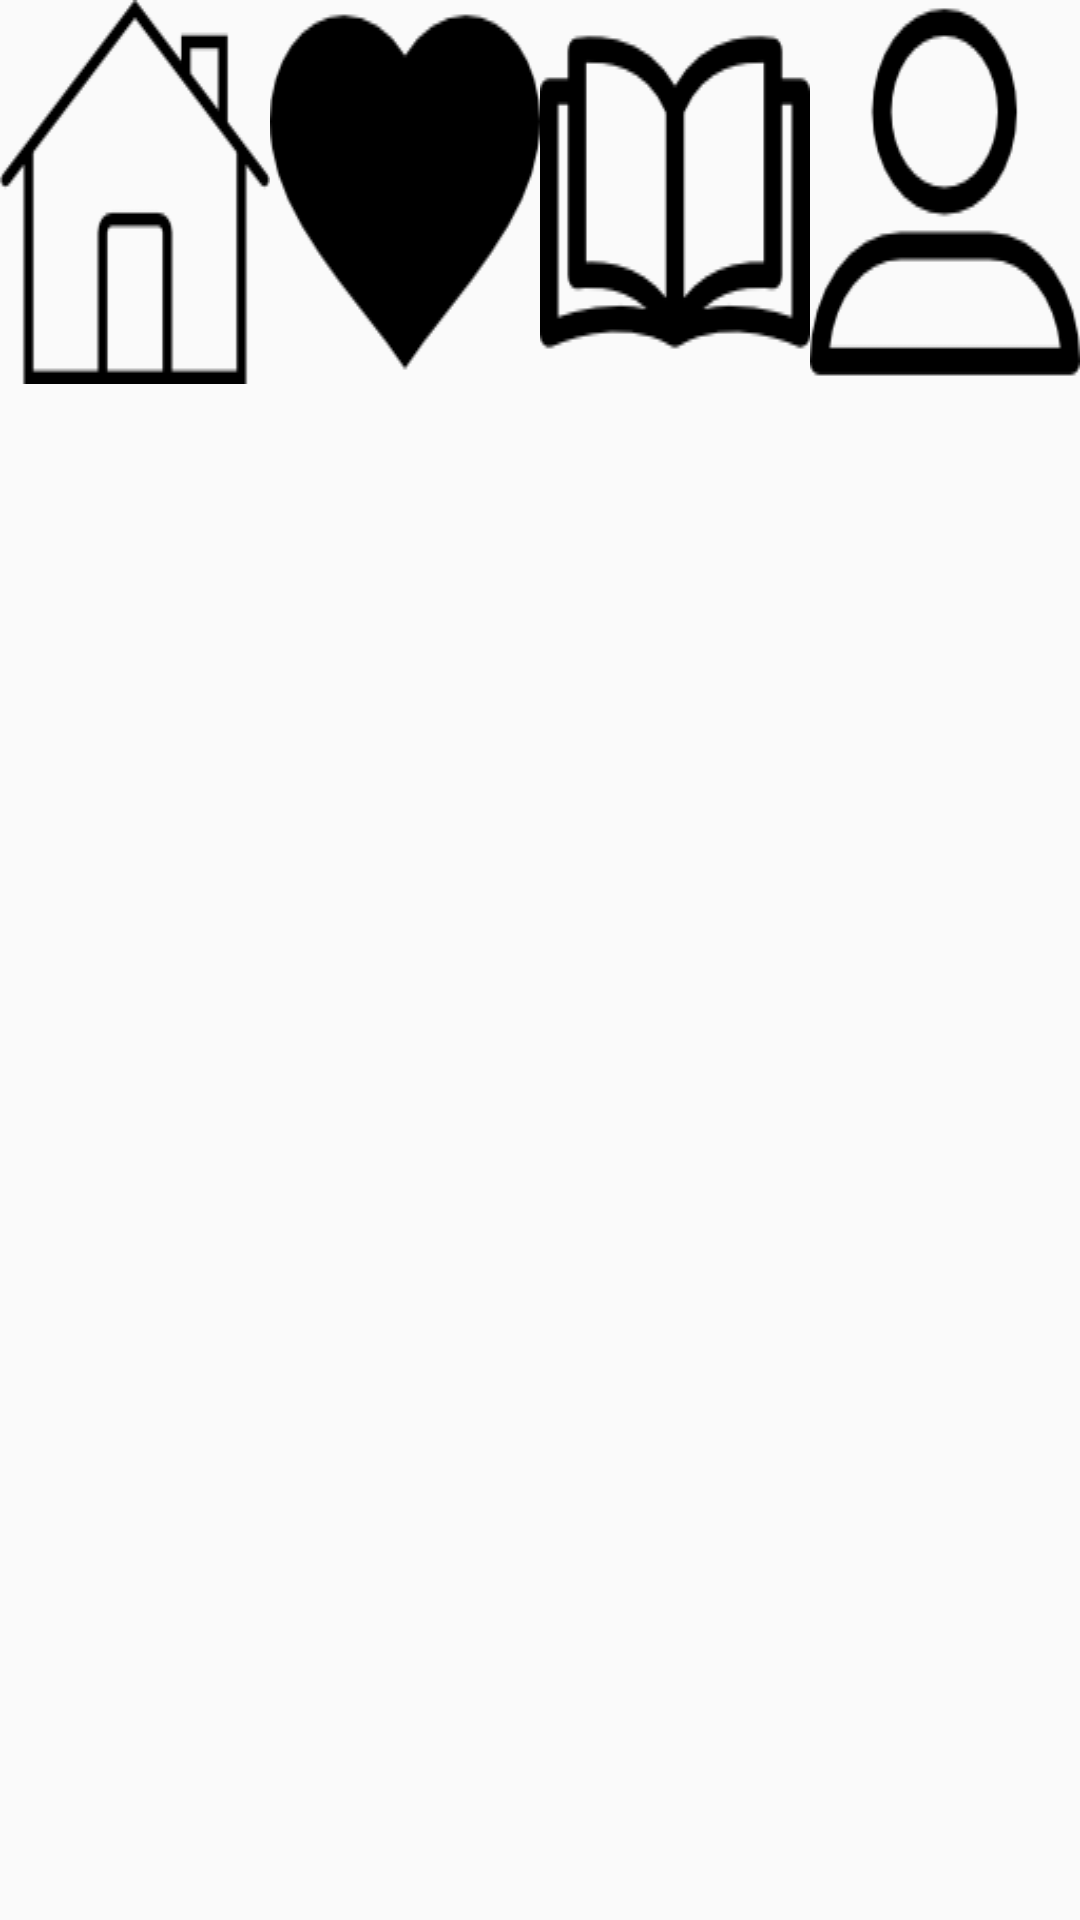

Named icons in this screenshot (1080 x 1920) and their centers, (x,y):
heart: (405,192)
openbook: (675,192)
